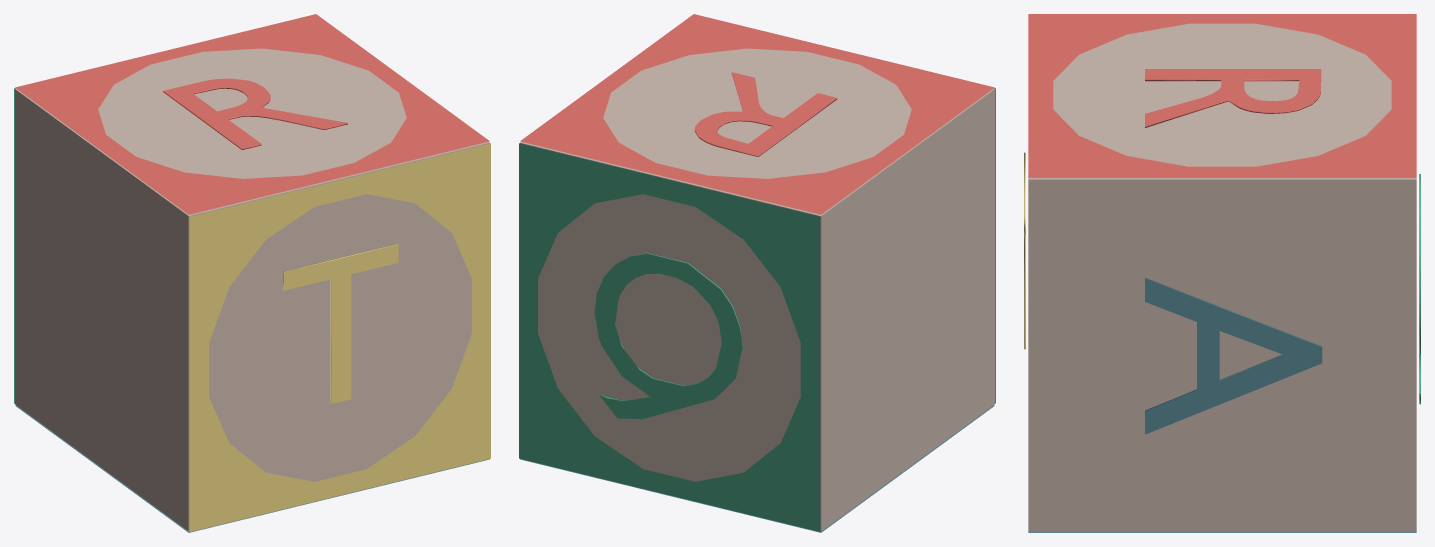
3 renders of one model, left to right at view 1: azimuth 30°, elevation 25°; view 2: azimuth 150°, elevation 25°; view 3: azimuth 270°, elevation 25°, orthographic. The views are drawn at different scales.
Parts seen in each view (by area): view 1: cube; view 2: cube; view 3: cube.
Part boxes in pixels (x1=…): cube: x1=14, y1=14, x2=490, y2=532; cube: x1=519, y1=14, x2=995, y2=532; cube: x1=1024, y1=14, x2=1420, y2=532.
Bounding box in the file's own units: 0.0453 × 0.046 × 0.046.
